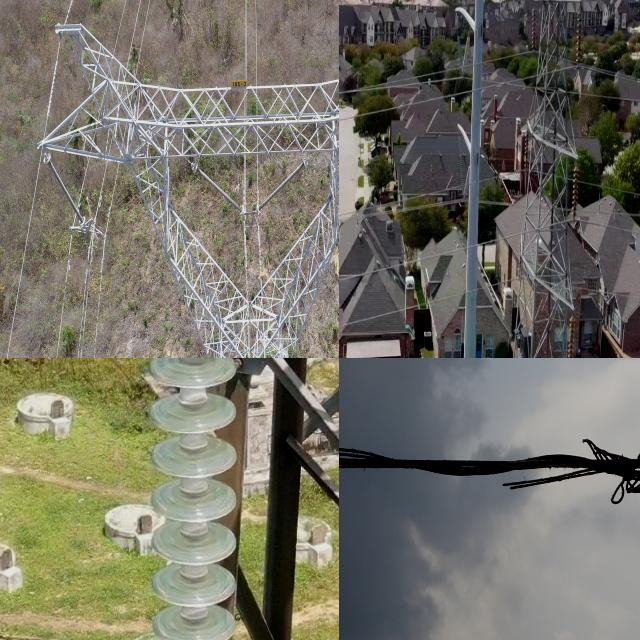杆塔: (30, 4, 339, 358), (135, 358, 339, 640), (508, 0, 577, 358)
正常电缆: (339, 275, 513, 330), (339, 242, 468, 284), (339, 85, 473, 124)
正常绝缘子: (144, 358, 259, 640), (43, 151, 88, 230), (190, 158, 246, 219), (255, 157, 308, 218), (570, 164, 580, 221), (566, 314, 576, 358), (576, 9, 584, 64), (461, 35, 471, 76), (462, 164, 473, 199), (459, 154, 466, 199), (456, 34, 464, 72), (523, 132, 530, 172), (531, 8, 537, 52), (518, 240, 522, 277)
电缆破损: (339, 407, 640, 508)
